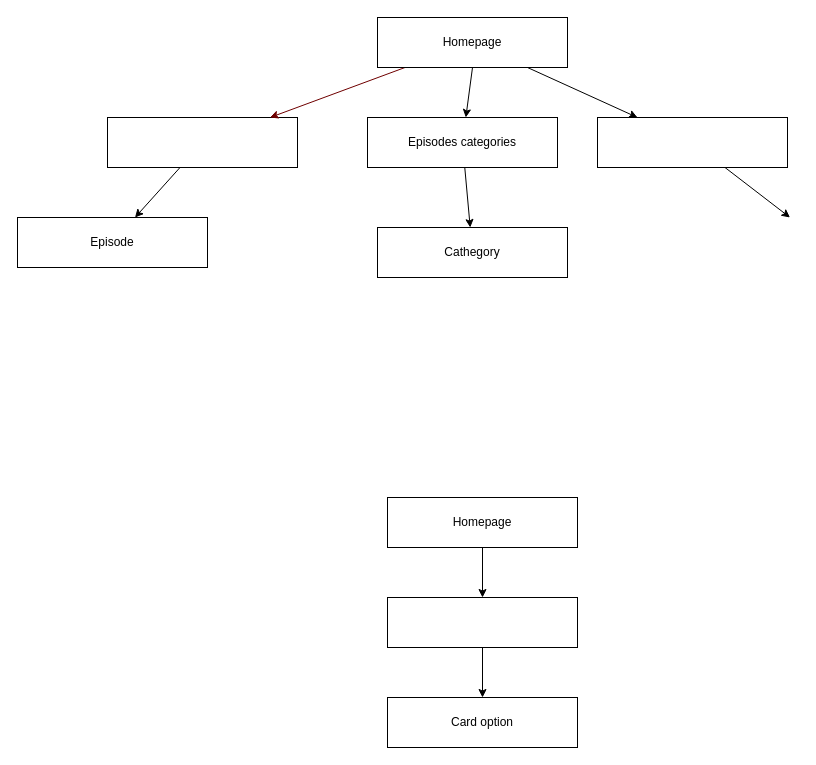
Some shapes in this 816 by 765 pixel diagram are drawn without their labels. The shapes that lost their labels are listed below. From the top down, each one's centre as x and y in pixels, then its label:
point 202,142: Episodes panel
point 692,142: Top Creators
point 482,622: List options
